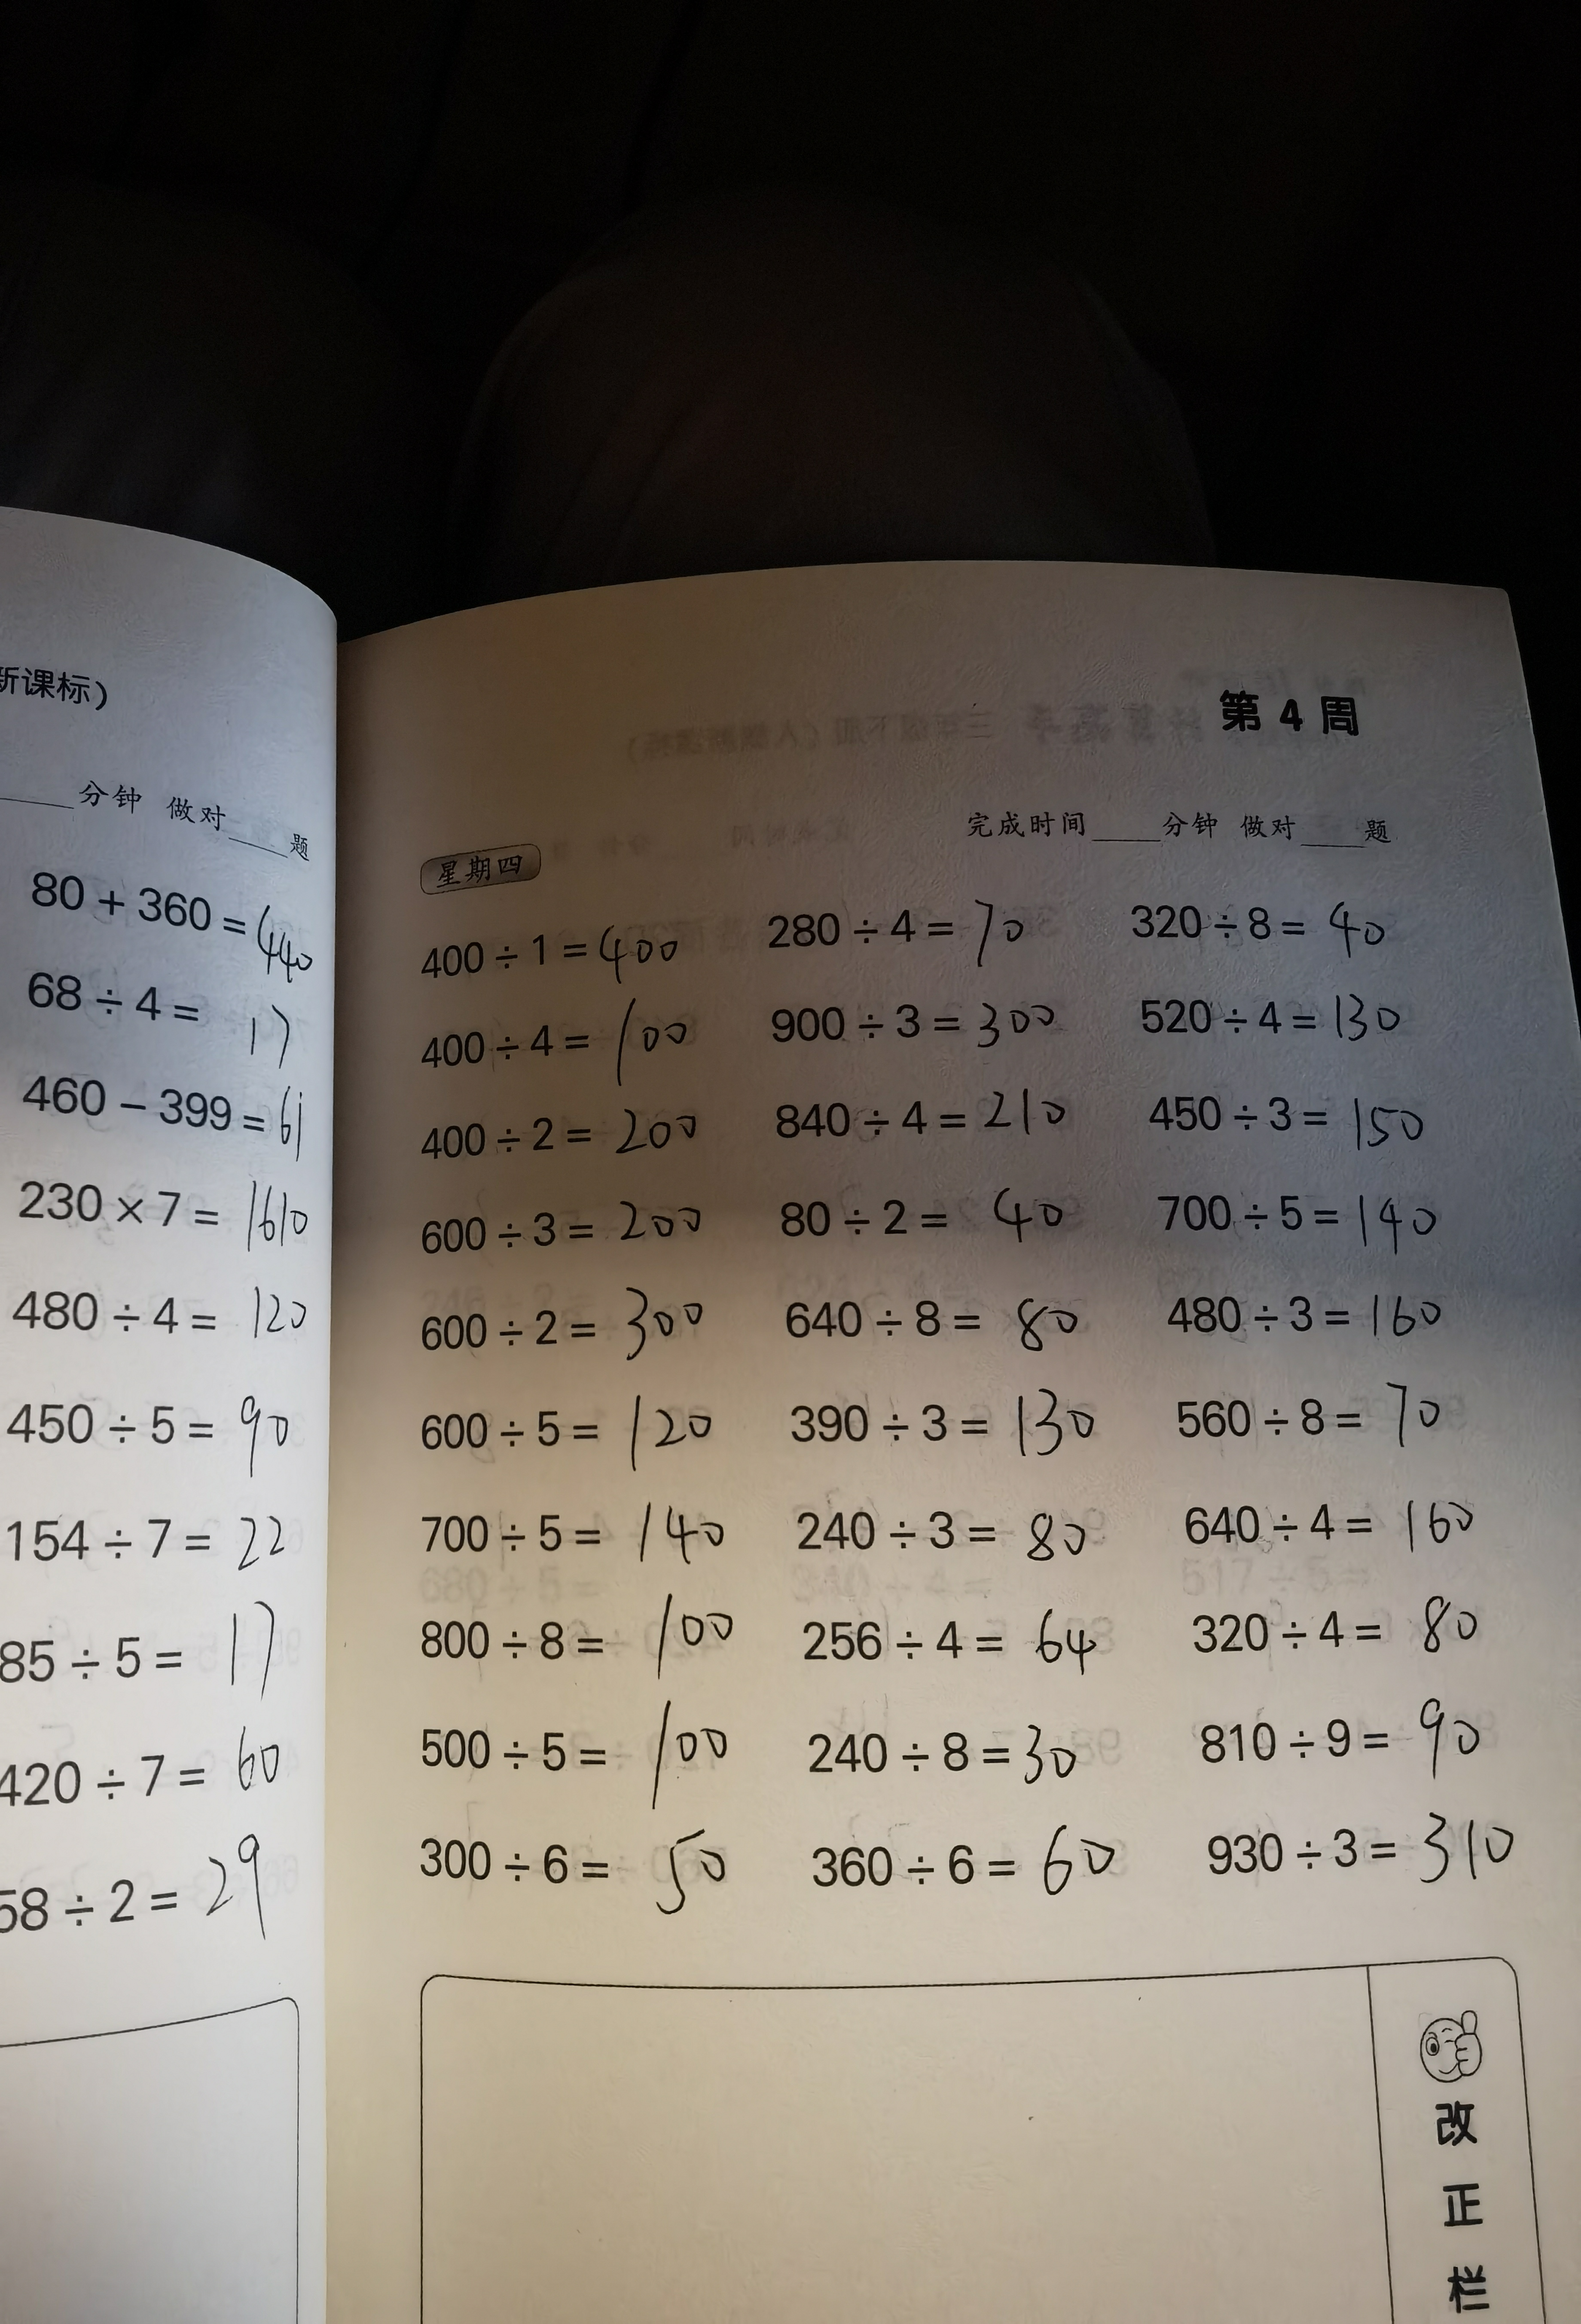equation: (418, 1812, 768, 1939), (1163, 1805, 1540, 1906), (762, 1819, 1126, 1911), (406, 1710, 745, 1800), (406, 1491, 734, 1583), (782, 1382, 1147, 1463), (402, 1391, 743, 1477), (764, 1173, 1096, 1260), (778, 1705, 1103, 1793), (1120, 1173, 1473, 1255), (1170, 1687, 1493, 1775), (1154, 1380, 1505, 1459), (790, 1602, 1106, 1691), (790, 1488, 1103, 1576), (371, 902, 713, 981), (406, 1592, 768, 1666), (787, 1281, 1106, 1364), (416, 1276, 708, 1364), (1147, 1279, 1475, 1352), (1122, 884, 1401, 969), (1152, 1078, 1447, 1156), (1173, 1599, 1500, 1668), (757, 990, 1071, 1059), (762, 1087, 1083, 1154), (1170, 1489, 1507, 1553), (393, 1108, 711, 1175), (759, 891, 1038, 967), (406, 1202, 727, 1265), (402, 1008, 706, 1075), (1136, 985, 1412, 1048)
